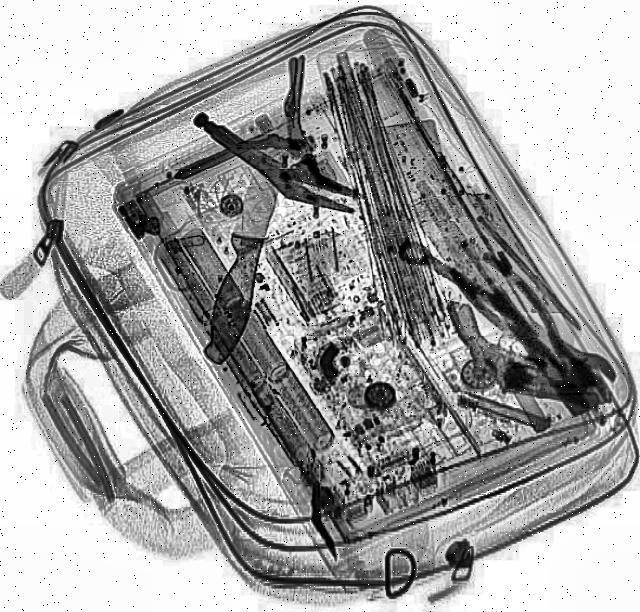Gun: (434, 302, 616, 412)
Knife: (406, 172, 594, 420), (196, 121, 308, 370)
Wrench: (388, 231, 626, 403)
